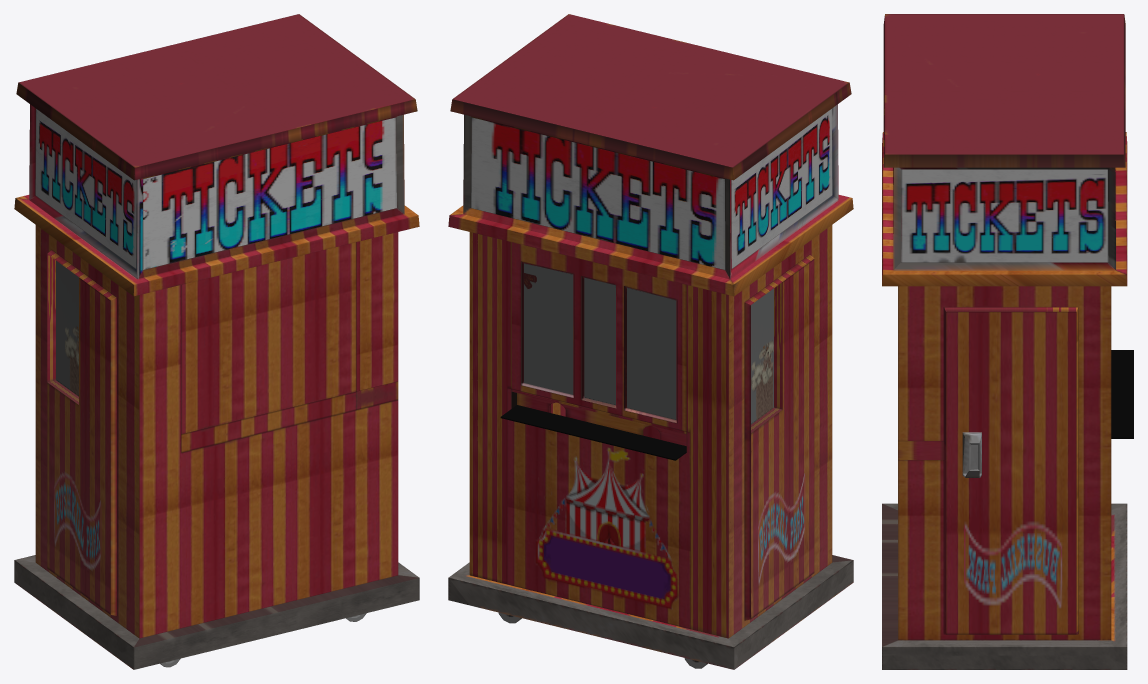
Rendered from ETC0210016.fbx.
3 views of the same model, side by side, from view 1: azimuth 30°, elevation 25°; view 2: azimuth 150°, elevation 25°; view 3: azimuth 270°, elevation 25° (orthographic). The views are drawn at different scales.
Visible parts, largest first — view 1: smETC0210016; view 2: smETC0210016; view 3: smETC0210016.
Part boxes in pixels (<box>): smETC0210016: <box>14,14,419,669</box>; smETC0210016: <box>448,14,853,669</box>; smETC0210016: <box>882,14,1133,669</box>.
Bounding box in the file's own units: 1.81 × 3.1 × 1.33.
Materials: 1 (1 with a texture image).
